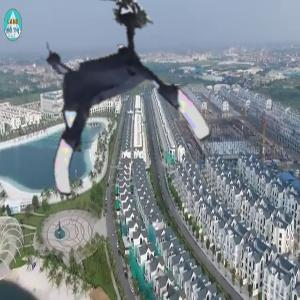drone: (15, 17, 195, 197)
